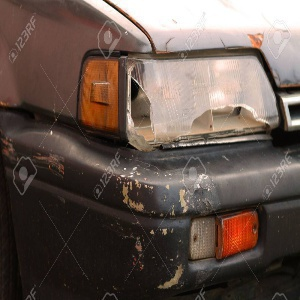bumper_scratch: (117, 178, 183, 288)
tail_lights: (83, 55, 279, 134)
